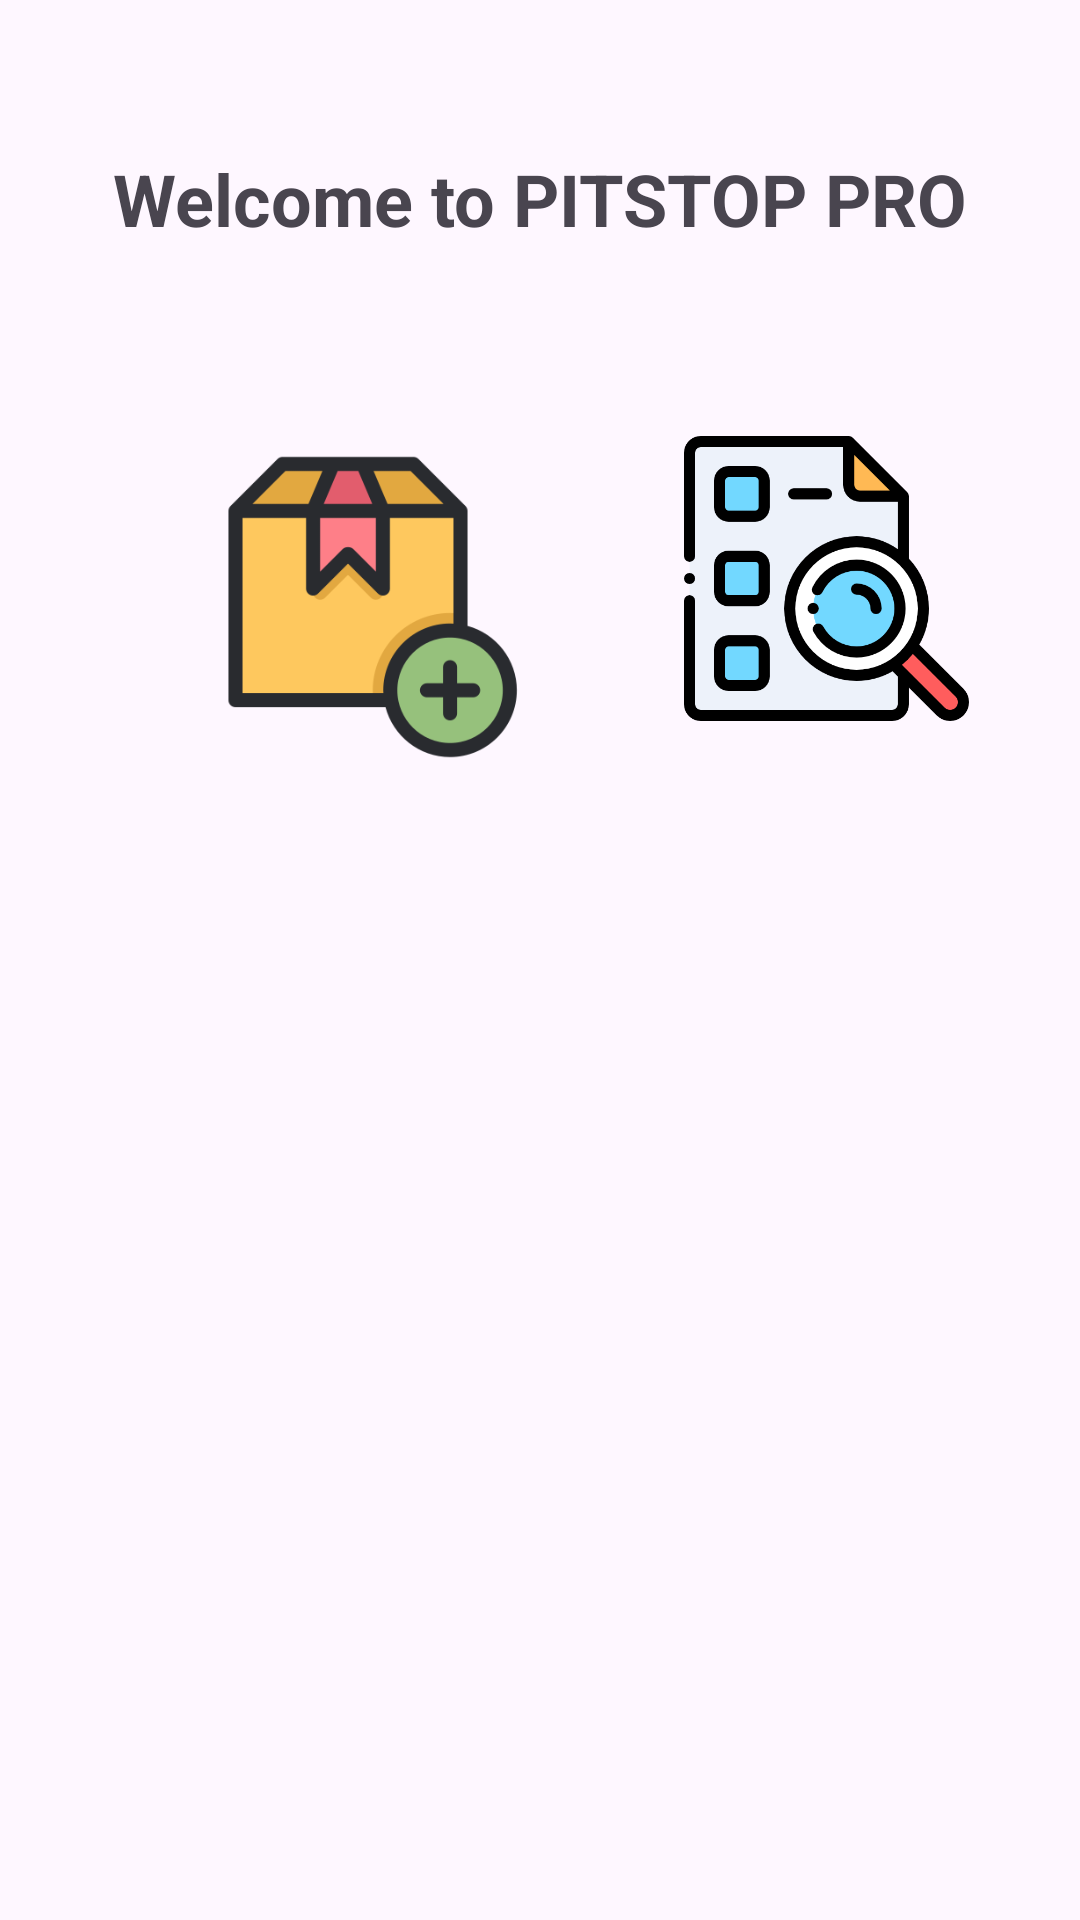

Named icons in this screenshot (1080 × 1920) and their bounding boxes, (x1, y1, x2, y2):
add item: (228, 456, 517, 758)
item list: (684, 436, 969, 721)
